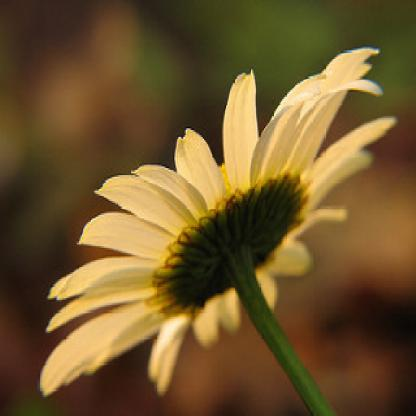ASTER: (24, 29, 404, 401)
